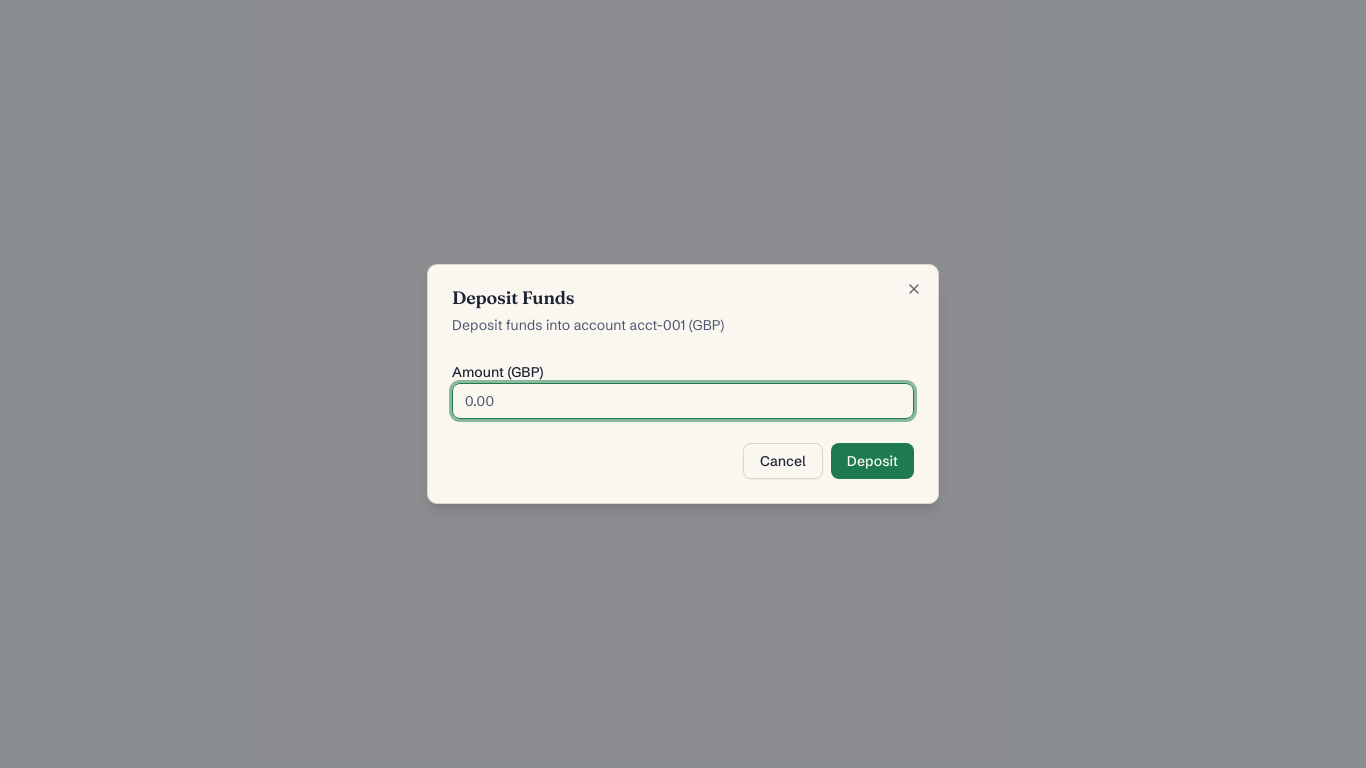
Test case: DepositDialog - validation › shows error when amount is negative
Type "-10" into the field labelled "Amount (GBP)". click: (683, 401)
box: top-left (452, 383), bottom-right (914, 419)
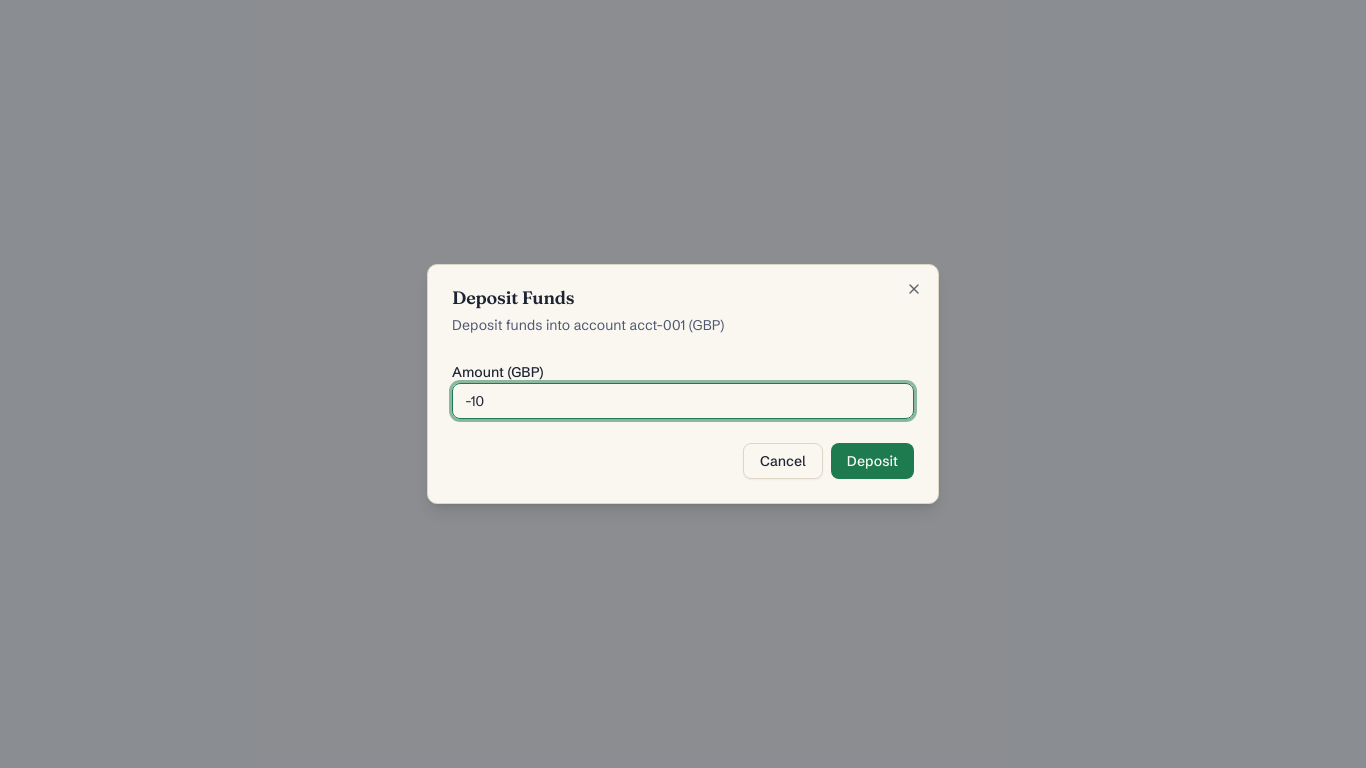
Click the button "Deposit". click: (872, 461)
box: top-left (831, 443), bottom-right (914, 479)
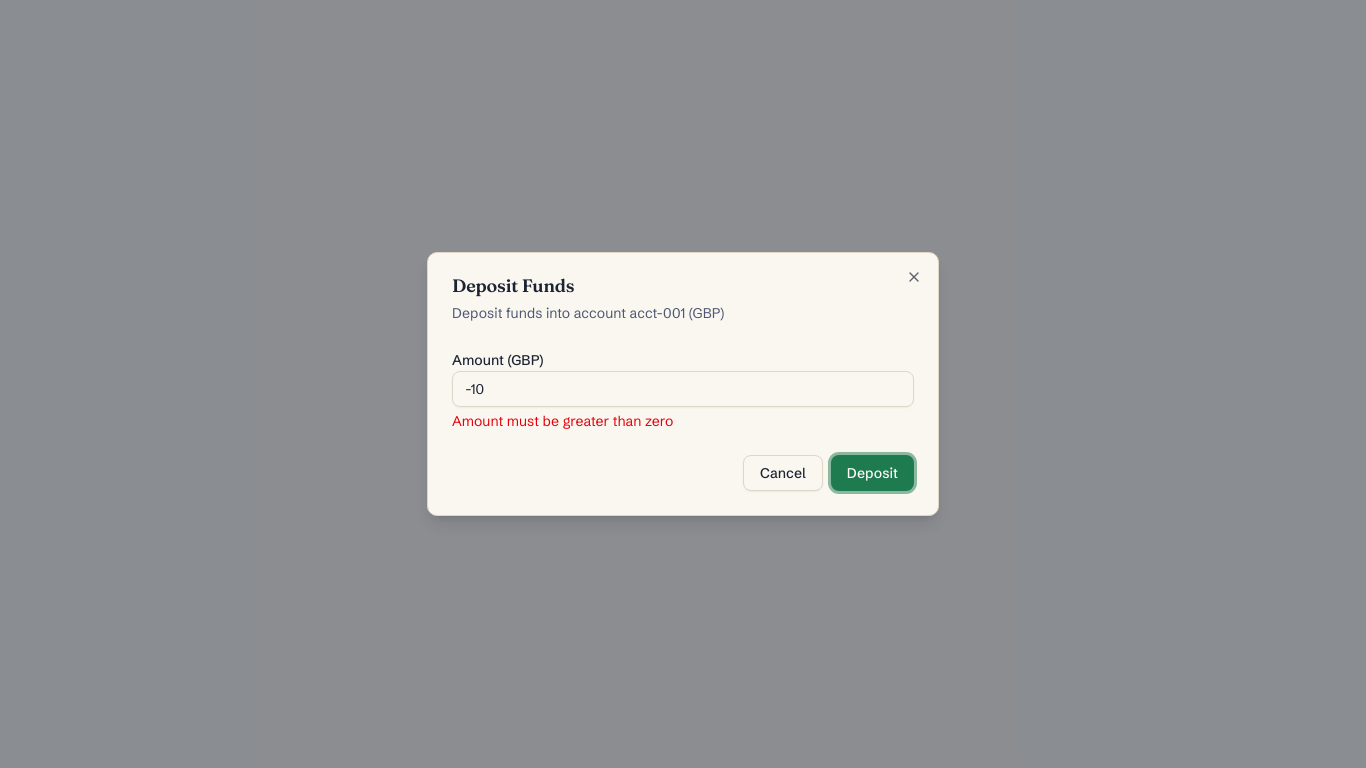
Check: the text "Amount must be greater than zero" is shown, box top-left (452, 412), bottom-right (673, 430)
